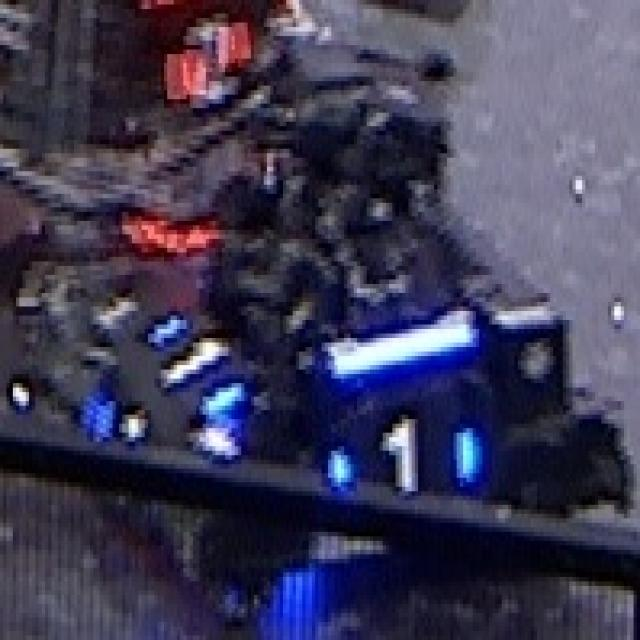B1: (142, 302, 260, 424), (325, 410, 479, 500)
R2: (164, 5, 244, 104)
